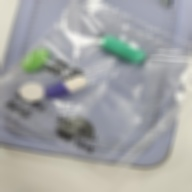러키펜정: (19, 83, 45, 103)
씨엠지세파클러캡슐: (44, 76, 88, 100)
에르도캡슐: (100, 36, 147, 64)
휴티렌정: (21, 49, 50, 72)
